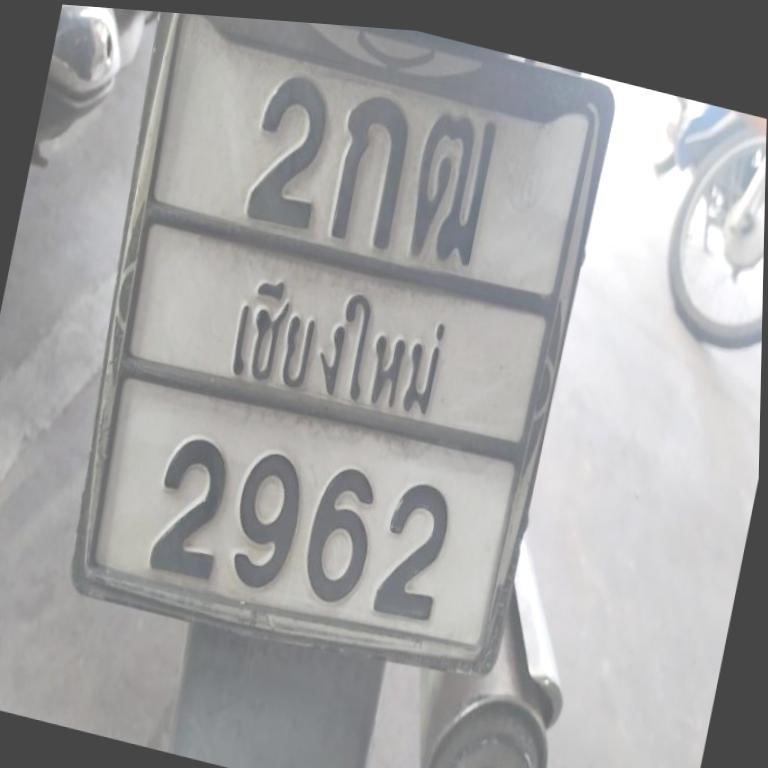license plate: (40, 4, 622, 700)
